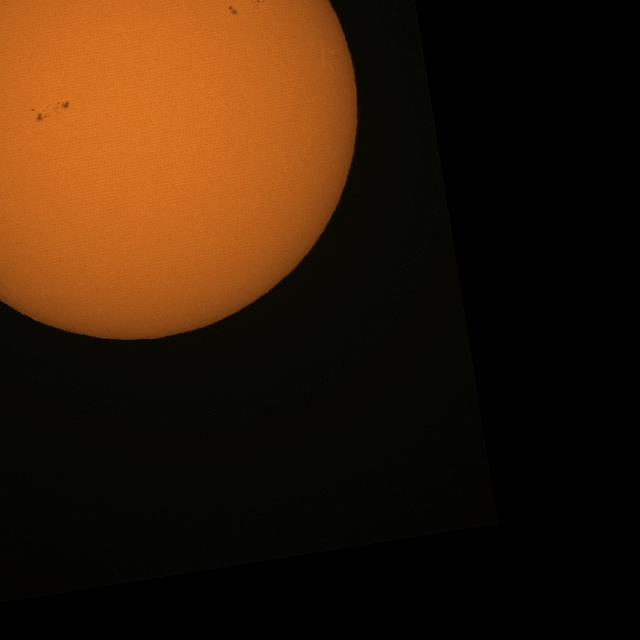sunspot: (33, 100, 70, 121), (33, 108, 51, 122), (56, 100, 70, 115), (228, 4, 239, 17)
